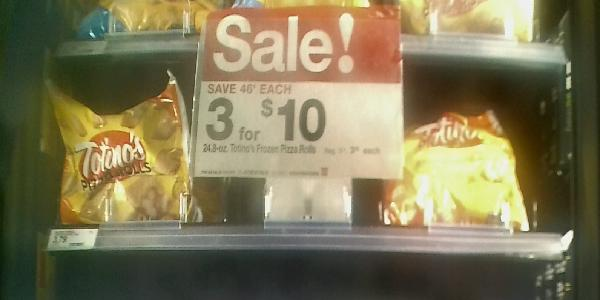icecream: (376, 88, 537, 228), (44, 79, 198, 220)
